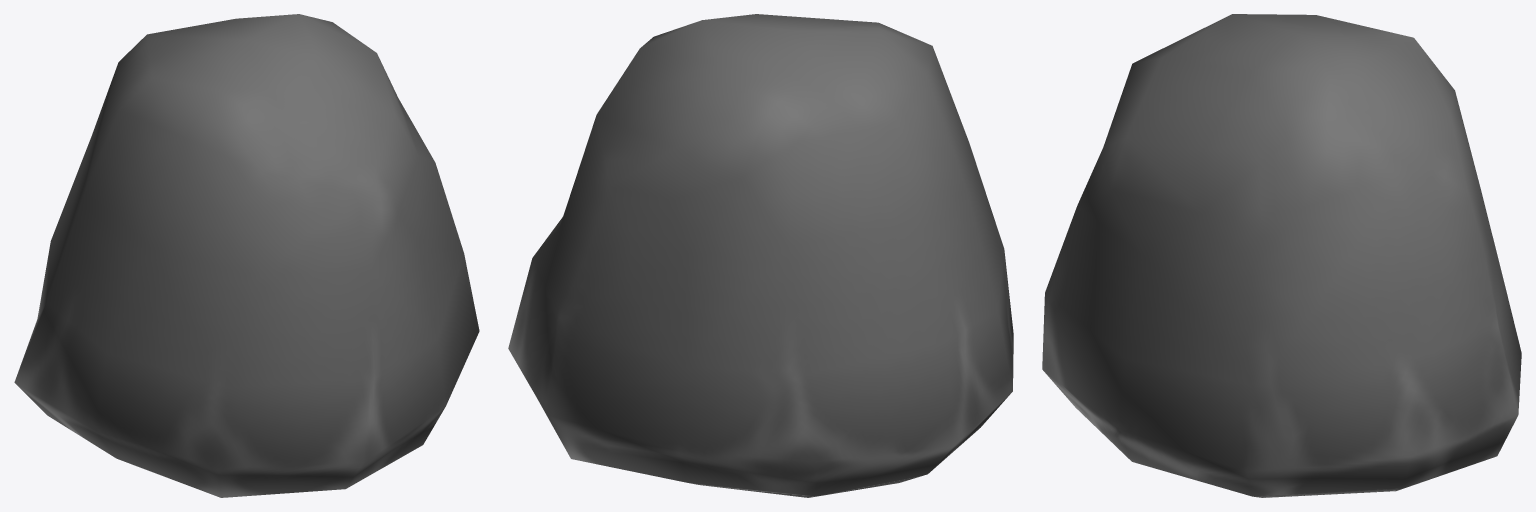
3 renders of one model, left to right at view 1: azimuth 30°, elevation 25°; view 2: azimuth 150°, elevation 25°; view 3: azimuth 270°, elevation 25°, orthographic. The views are drawn at different scales.
Visible parts, largest first — view 1: rock_6; view 2: rock_6; view 3: rock_6.
Part boxes in pixels (x1=…): rock_6: x1=14, y1=14, x2=479, y2=497; rock_6: x1=508, y1=14, x2=1013, y2=497; rock_6: x1=1042, y1=14, x2=1521, y2=497.
Bounding box in the file's own units: 114 × 103 × 113.
